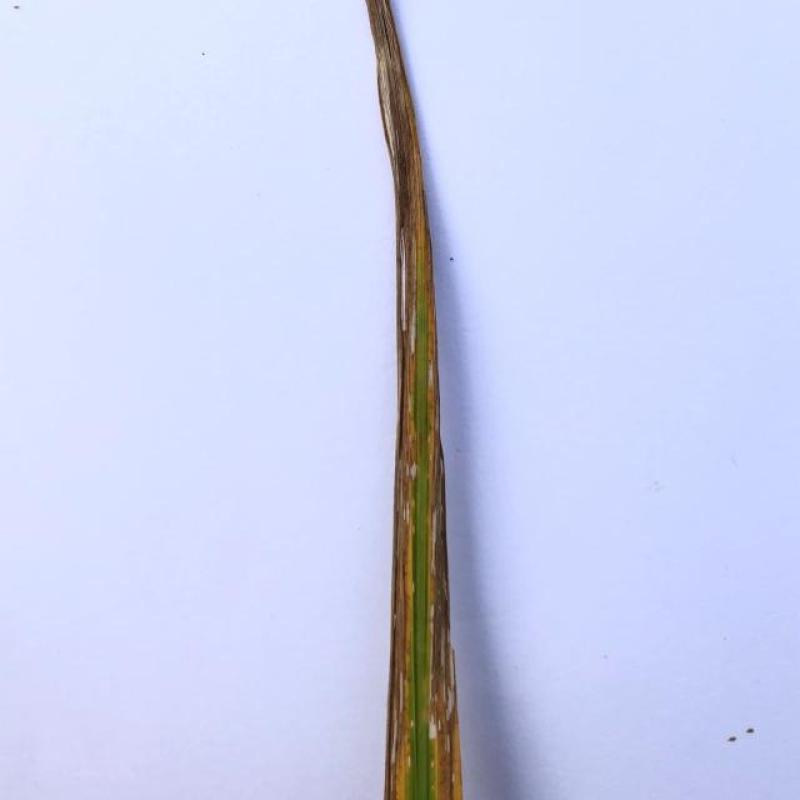Rice Tungro: (357, 0, 482, 800)
